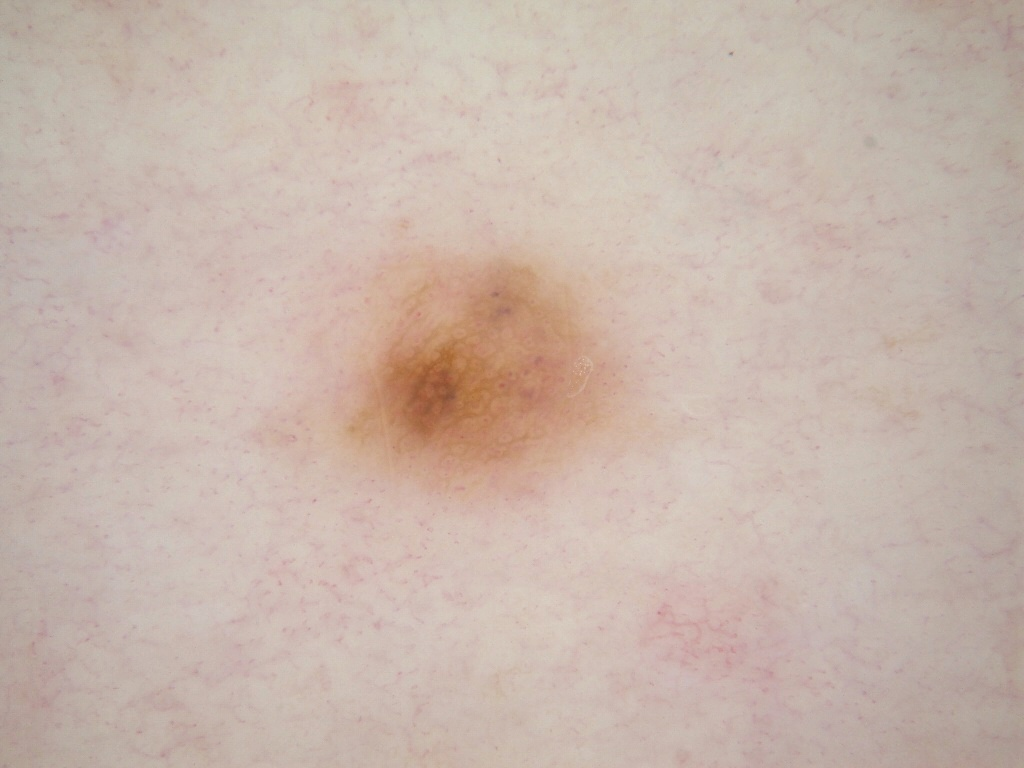Detected Lesion: (334, 246, 645, 495)
